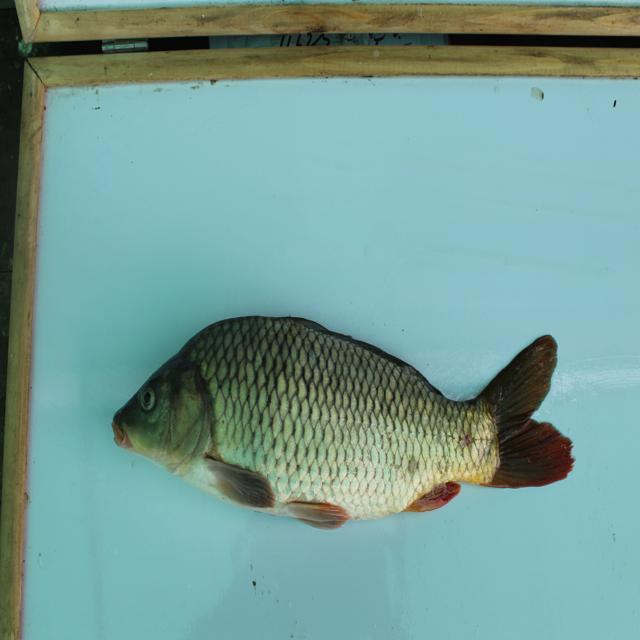Grass Carp: (112, 310, 580, 538)
